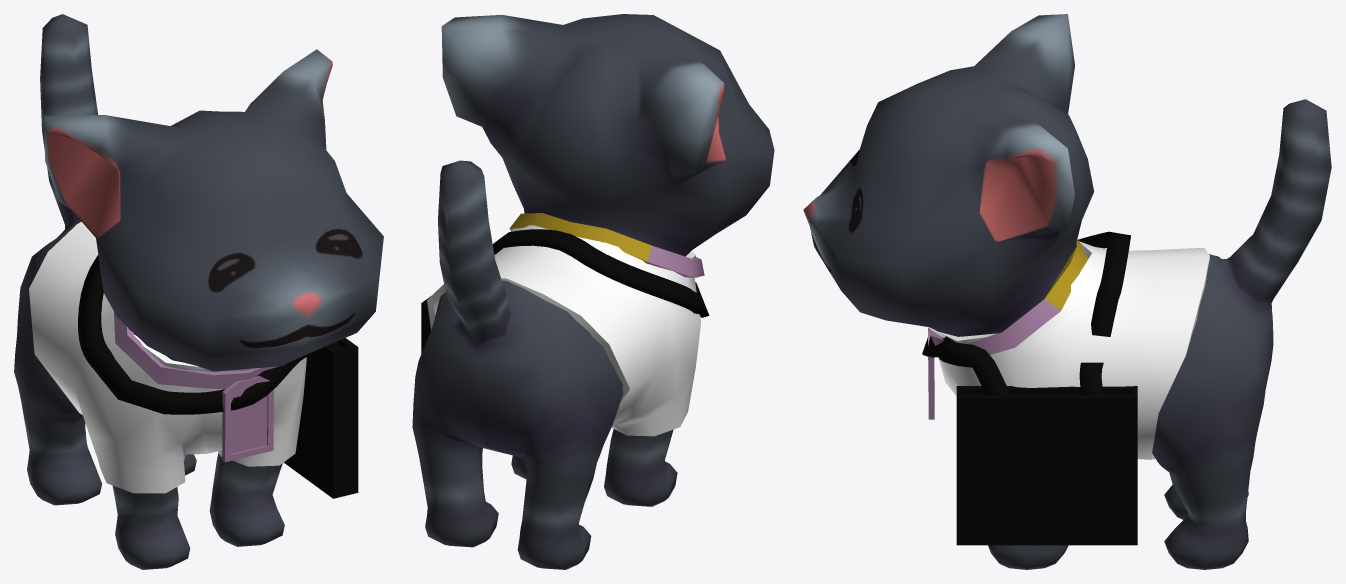
The model's file is Student Cat02_04.fbx.
3 views of the same model, side by side, from view 1: azimuth 30°, elevation 25°; view 2: azimuth 150°, elevation 25°; view 3: azimuth 270°, elevation 25° (orthographic). The views are drawn at different scales.
Visible parts, largest first — view 1: Cat_Base003, tshirt, ToteBag, id; view 2: Cat_Base003, tshirt, ToteBag, id; view 3: Cat_Base003, ToteBag, tshirt, id.
Part boxes in pixels (bbox=[...]): Cat_Base003: bbox=[14, 14, 383, 569]; tshirt: bbox=[29, 221, 306, 493]; ToteBag: bbox=[78, 255, 358, 498]; id: bbox=[114, 312, 284, 462]; Cat_Base003: bbox=[412, 14, 774, 569]; tshirt: bbox=[427, 225, 700, 436]; ToteBag: bbox=[421, 229, 709, 353]; id: bbox=[509, 213, 704, 277]; Cat_Base003: bbox=[803, 14, 1331, 569]; ToteBag: bbox=[922, 231, 1137, 545]; tshirt: bbox=[928, 241, 1209, 459]; id: bbox=[928, 239, 1087, 419].
Bounding box in the file's own units: 1.75 × 2.83 × 2.68.
5 materials, 1 textured.
